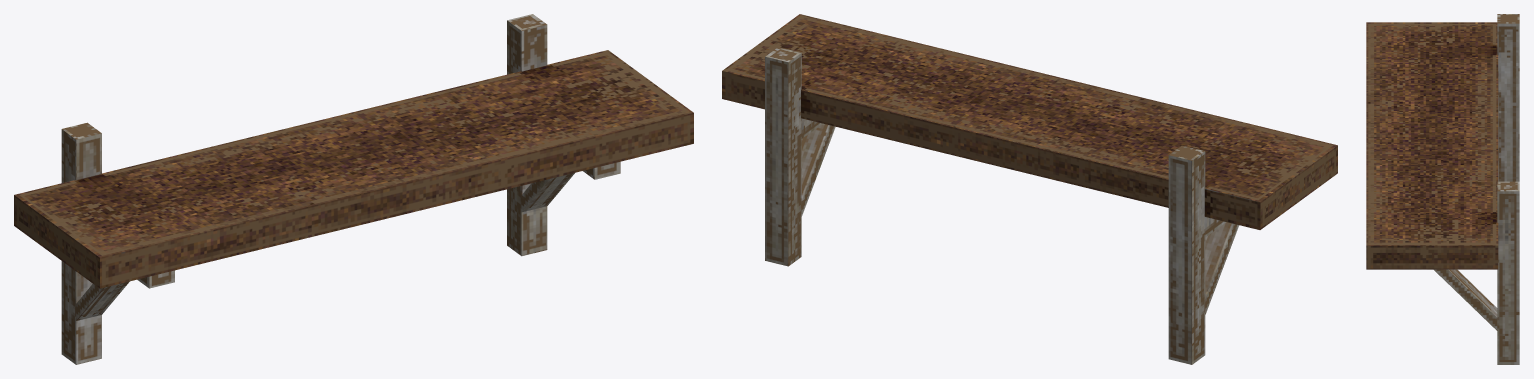
The model's file is Shelf.glb.
3 renders of one model, left to right at view 1: azimuth 30°, elevation 25°; view 2: azimuth 150°, elevation 25°; view 3: azimuth 270°, elevation 25°, orthographic. The views are drawn at different scales.
Parts seen in each view (by area): view 1: Shelf; view 2: Shelf; view 3: Shelf.
Boxes of the visible parts, x1,y1,x2,y2 form: Shelf: [14, 14, 693, 364]; Shelf: [722, 14, 1337, 364]; Shelf: [1366, 14, 1519, 364].
Bounding box in the file's own units: 0.8 × 0.29 × 0.2324.
1 material, 1 textured.
